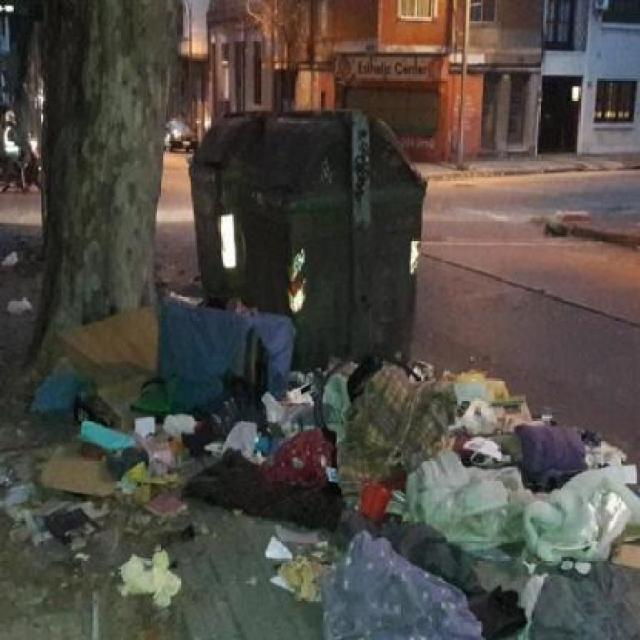garbage: (76, 291, 633, 638), (0, 410, 160, 639), (1, 223, 44, 348)
